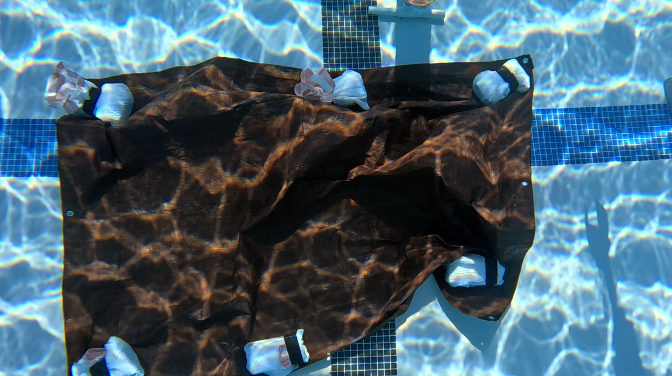sandbag: (43, 54, 535, 375)
